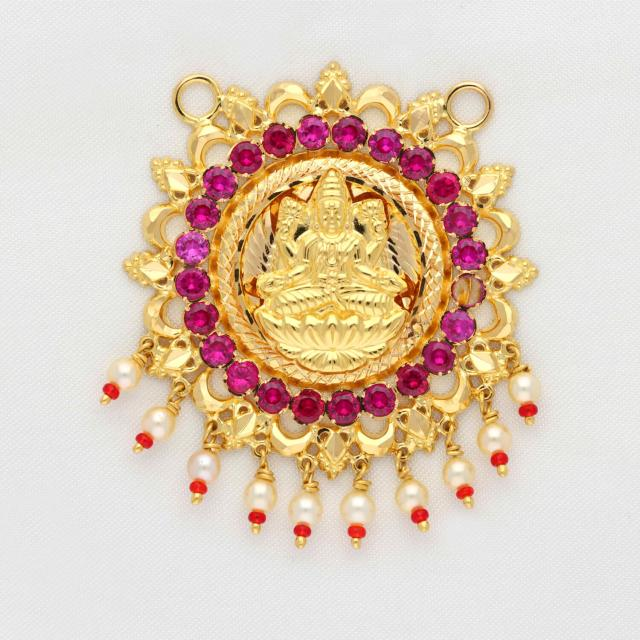missing gem: (453, 274, 485, 307)
